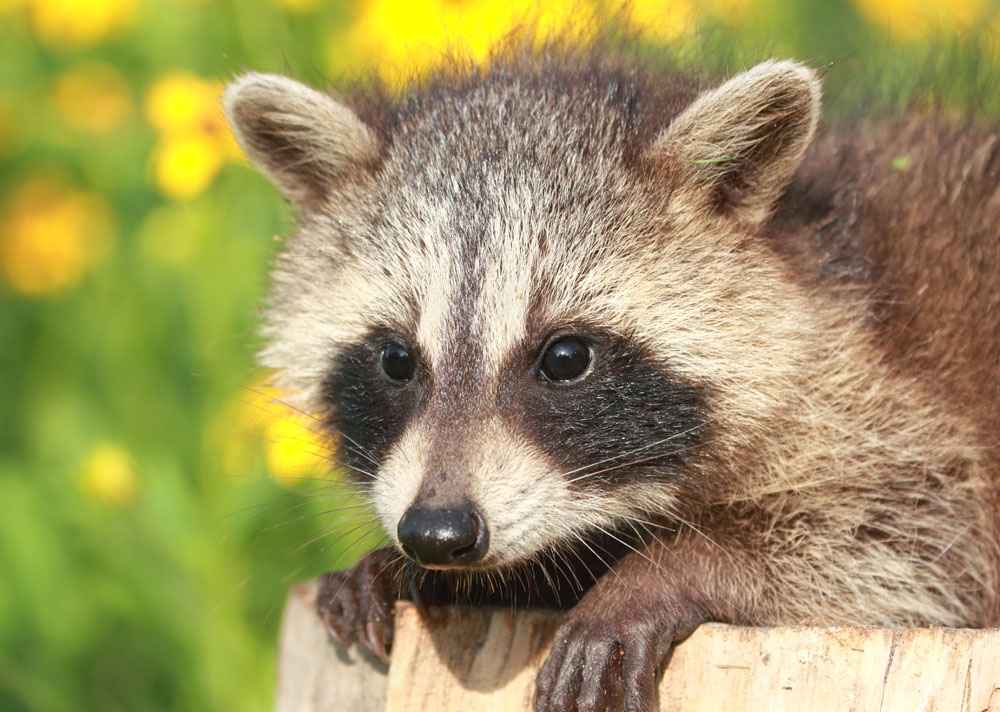raccoon: (216, 9, 999, 709)
